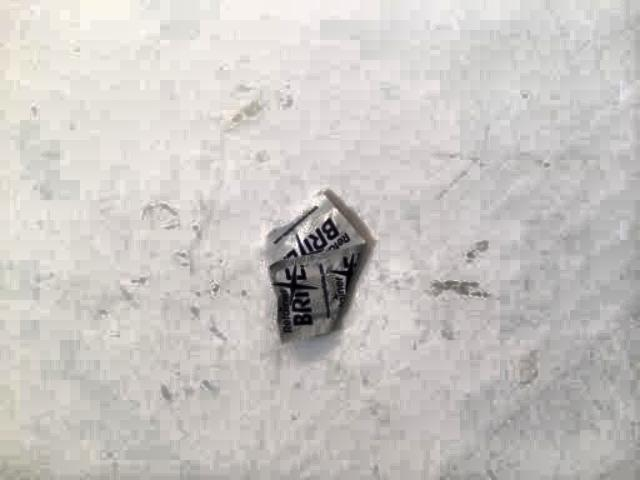Plastic: (243, 182, 384, 358)
